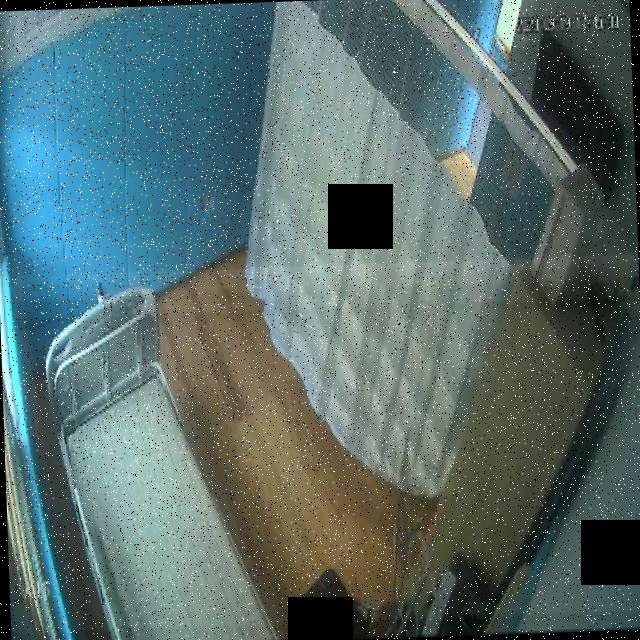bed: (44, 281, 276, 640)
